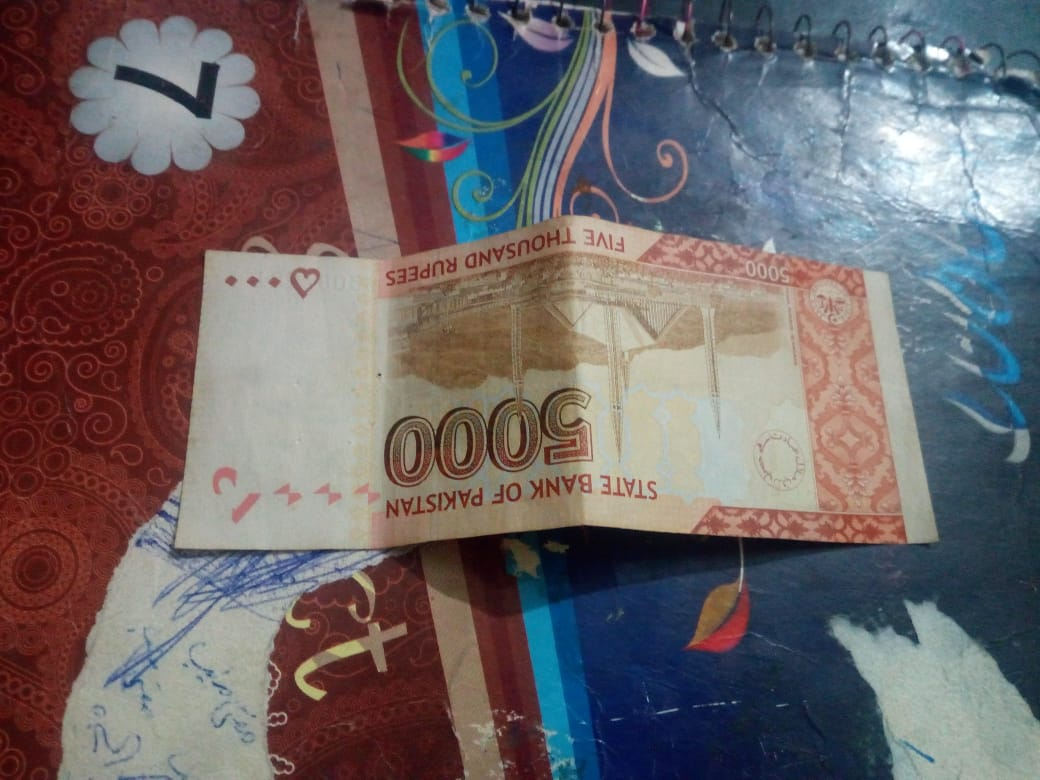5000 rupee: (163, 202, 945, 571)
